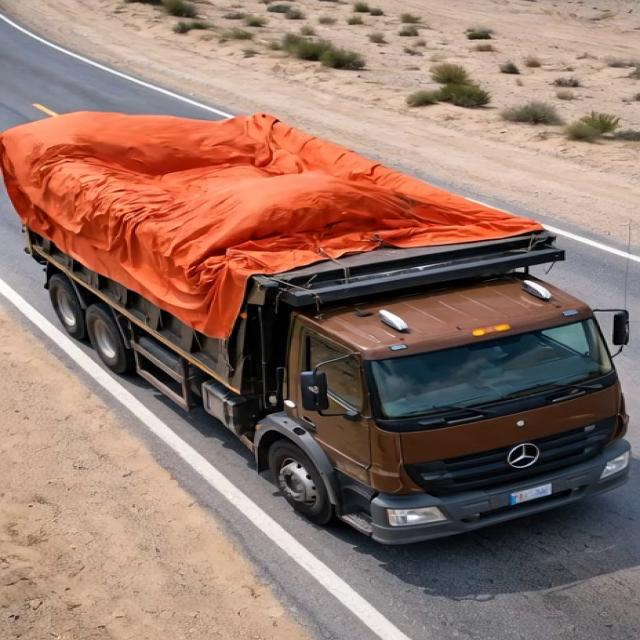trailer: (8, 116, 556, 282)
truck: (2, 80, 636, 542)
